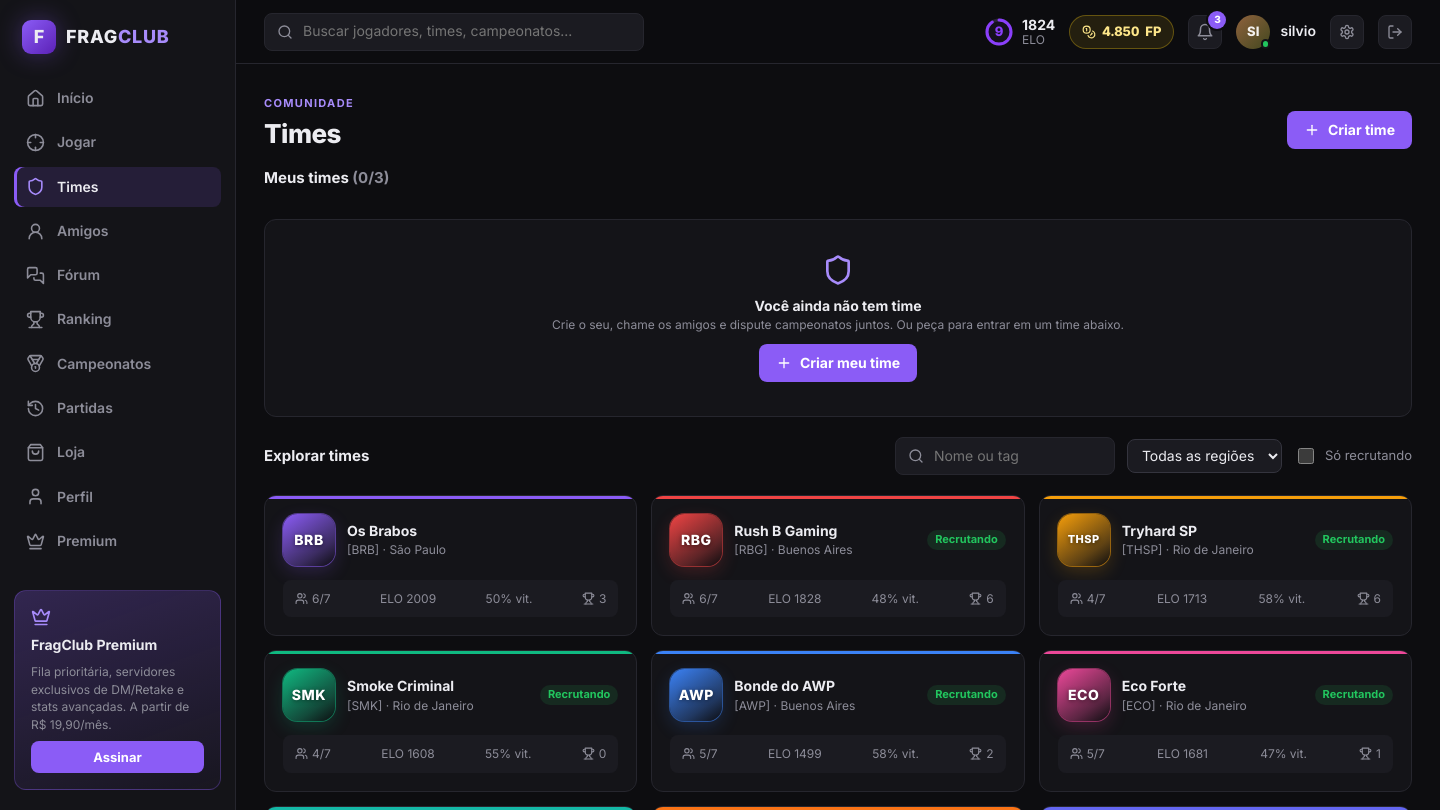
fluxos › formulário de time valida nome e tag
This screenshot has width=1440, height=810.
Click the button "Criar time" at (1349, 130), box [1287, 111, 1412, 149]
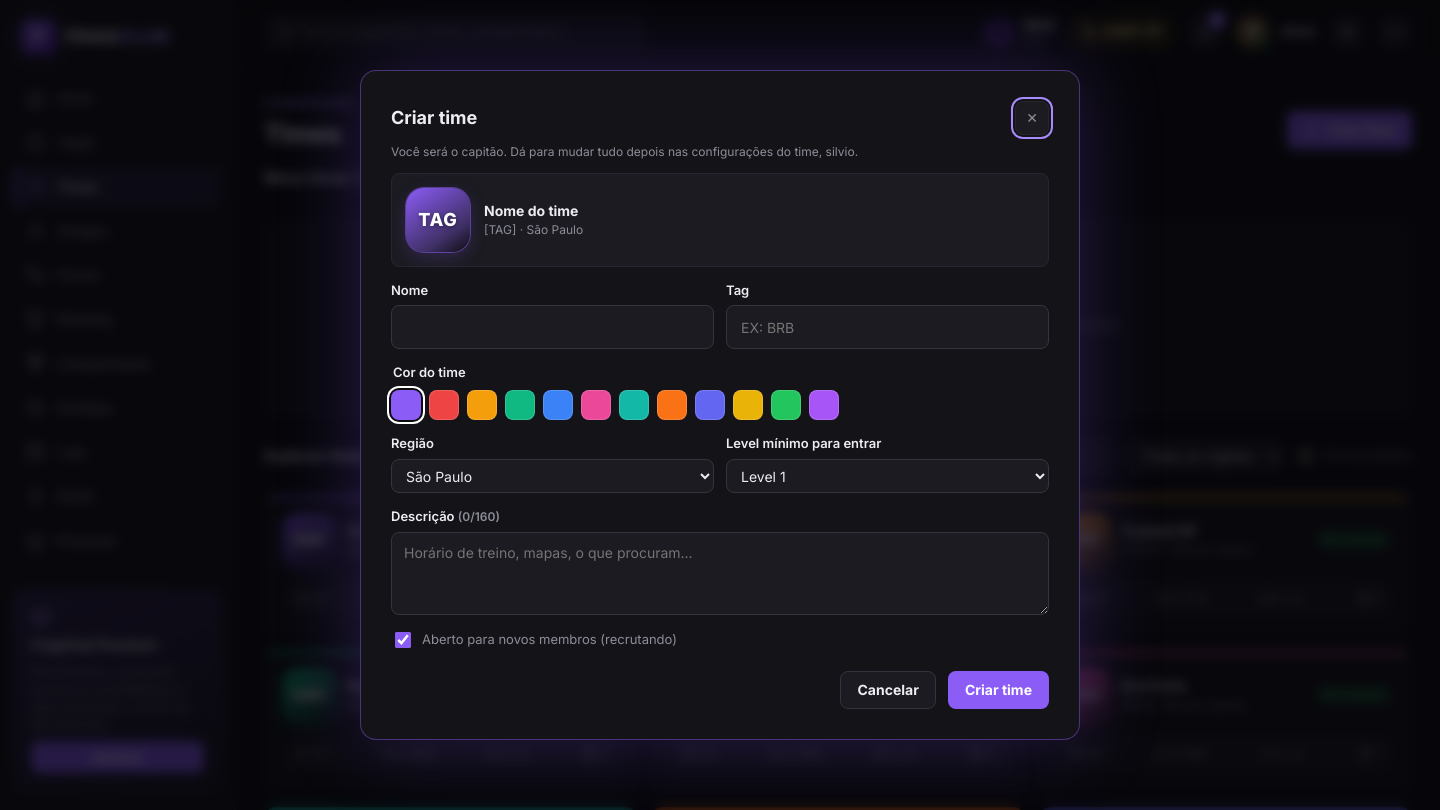
Click the button "Criar time" at (998, 690), box [948, 671, 1049, 709]
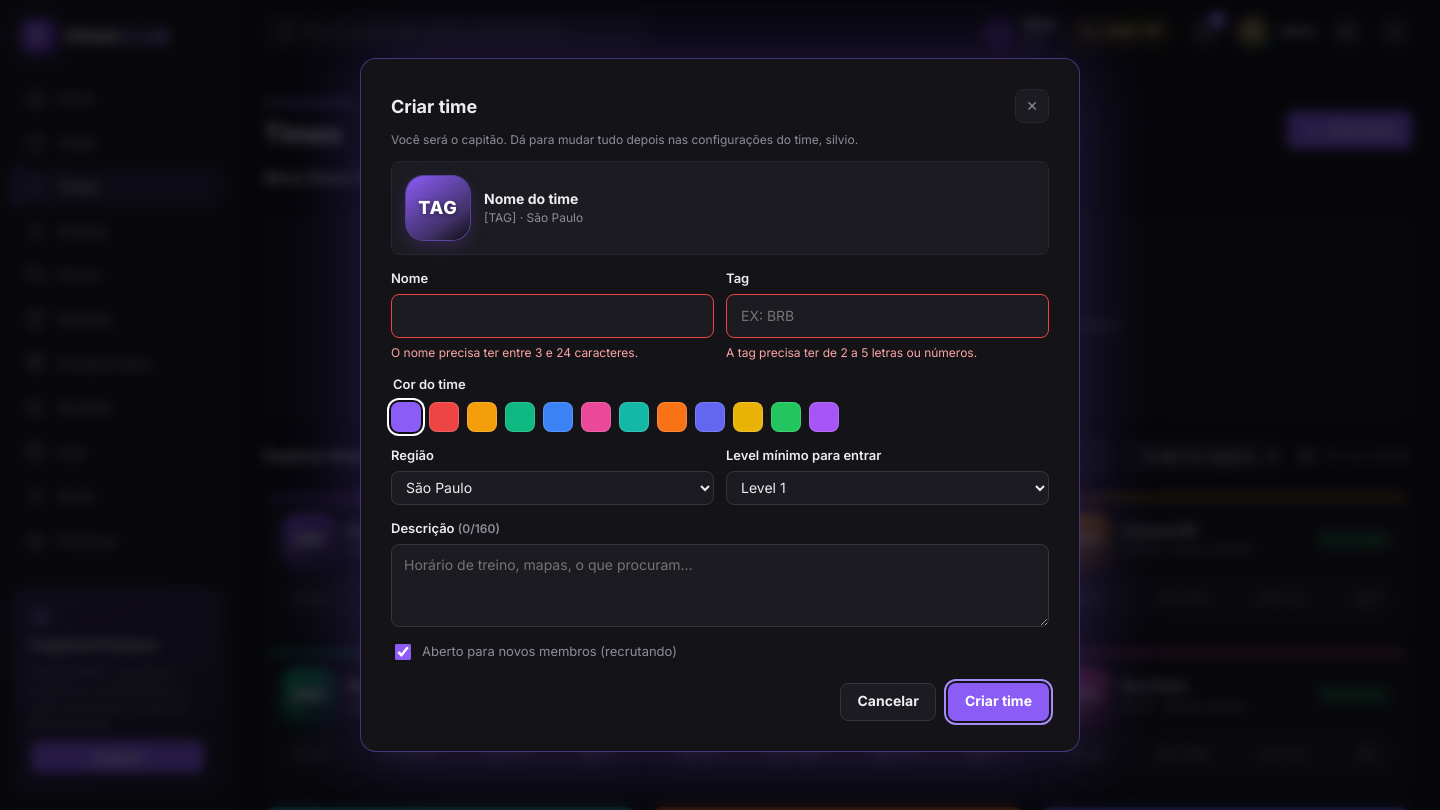
expect the text "O nome precisa ter entre 3 e 24 caracteres." is shown: met, box [391, 345, 638, 360]
expect the text "A tag precisa ter de 2 a 5 letras ou números." is shown: met, box [726, 345, 977, 360]
